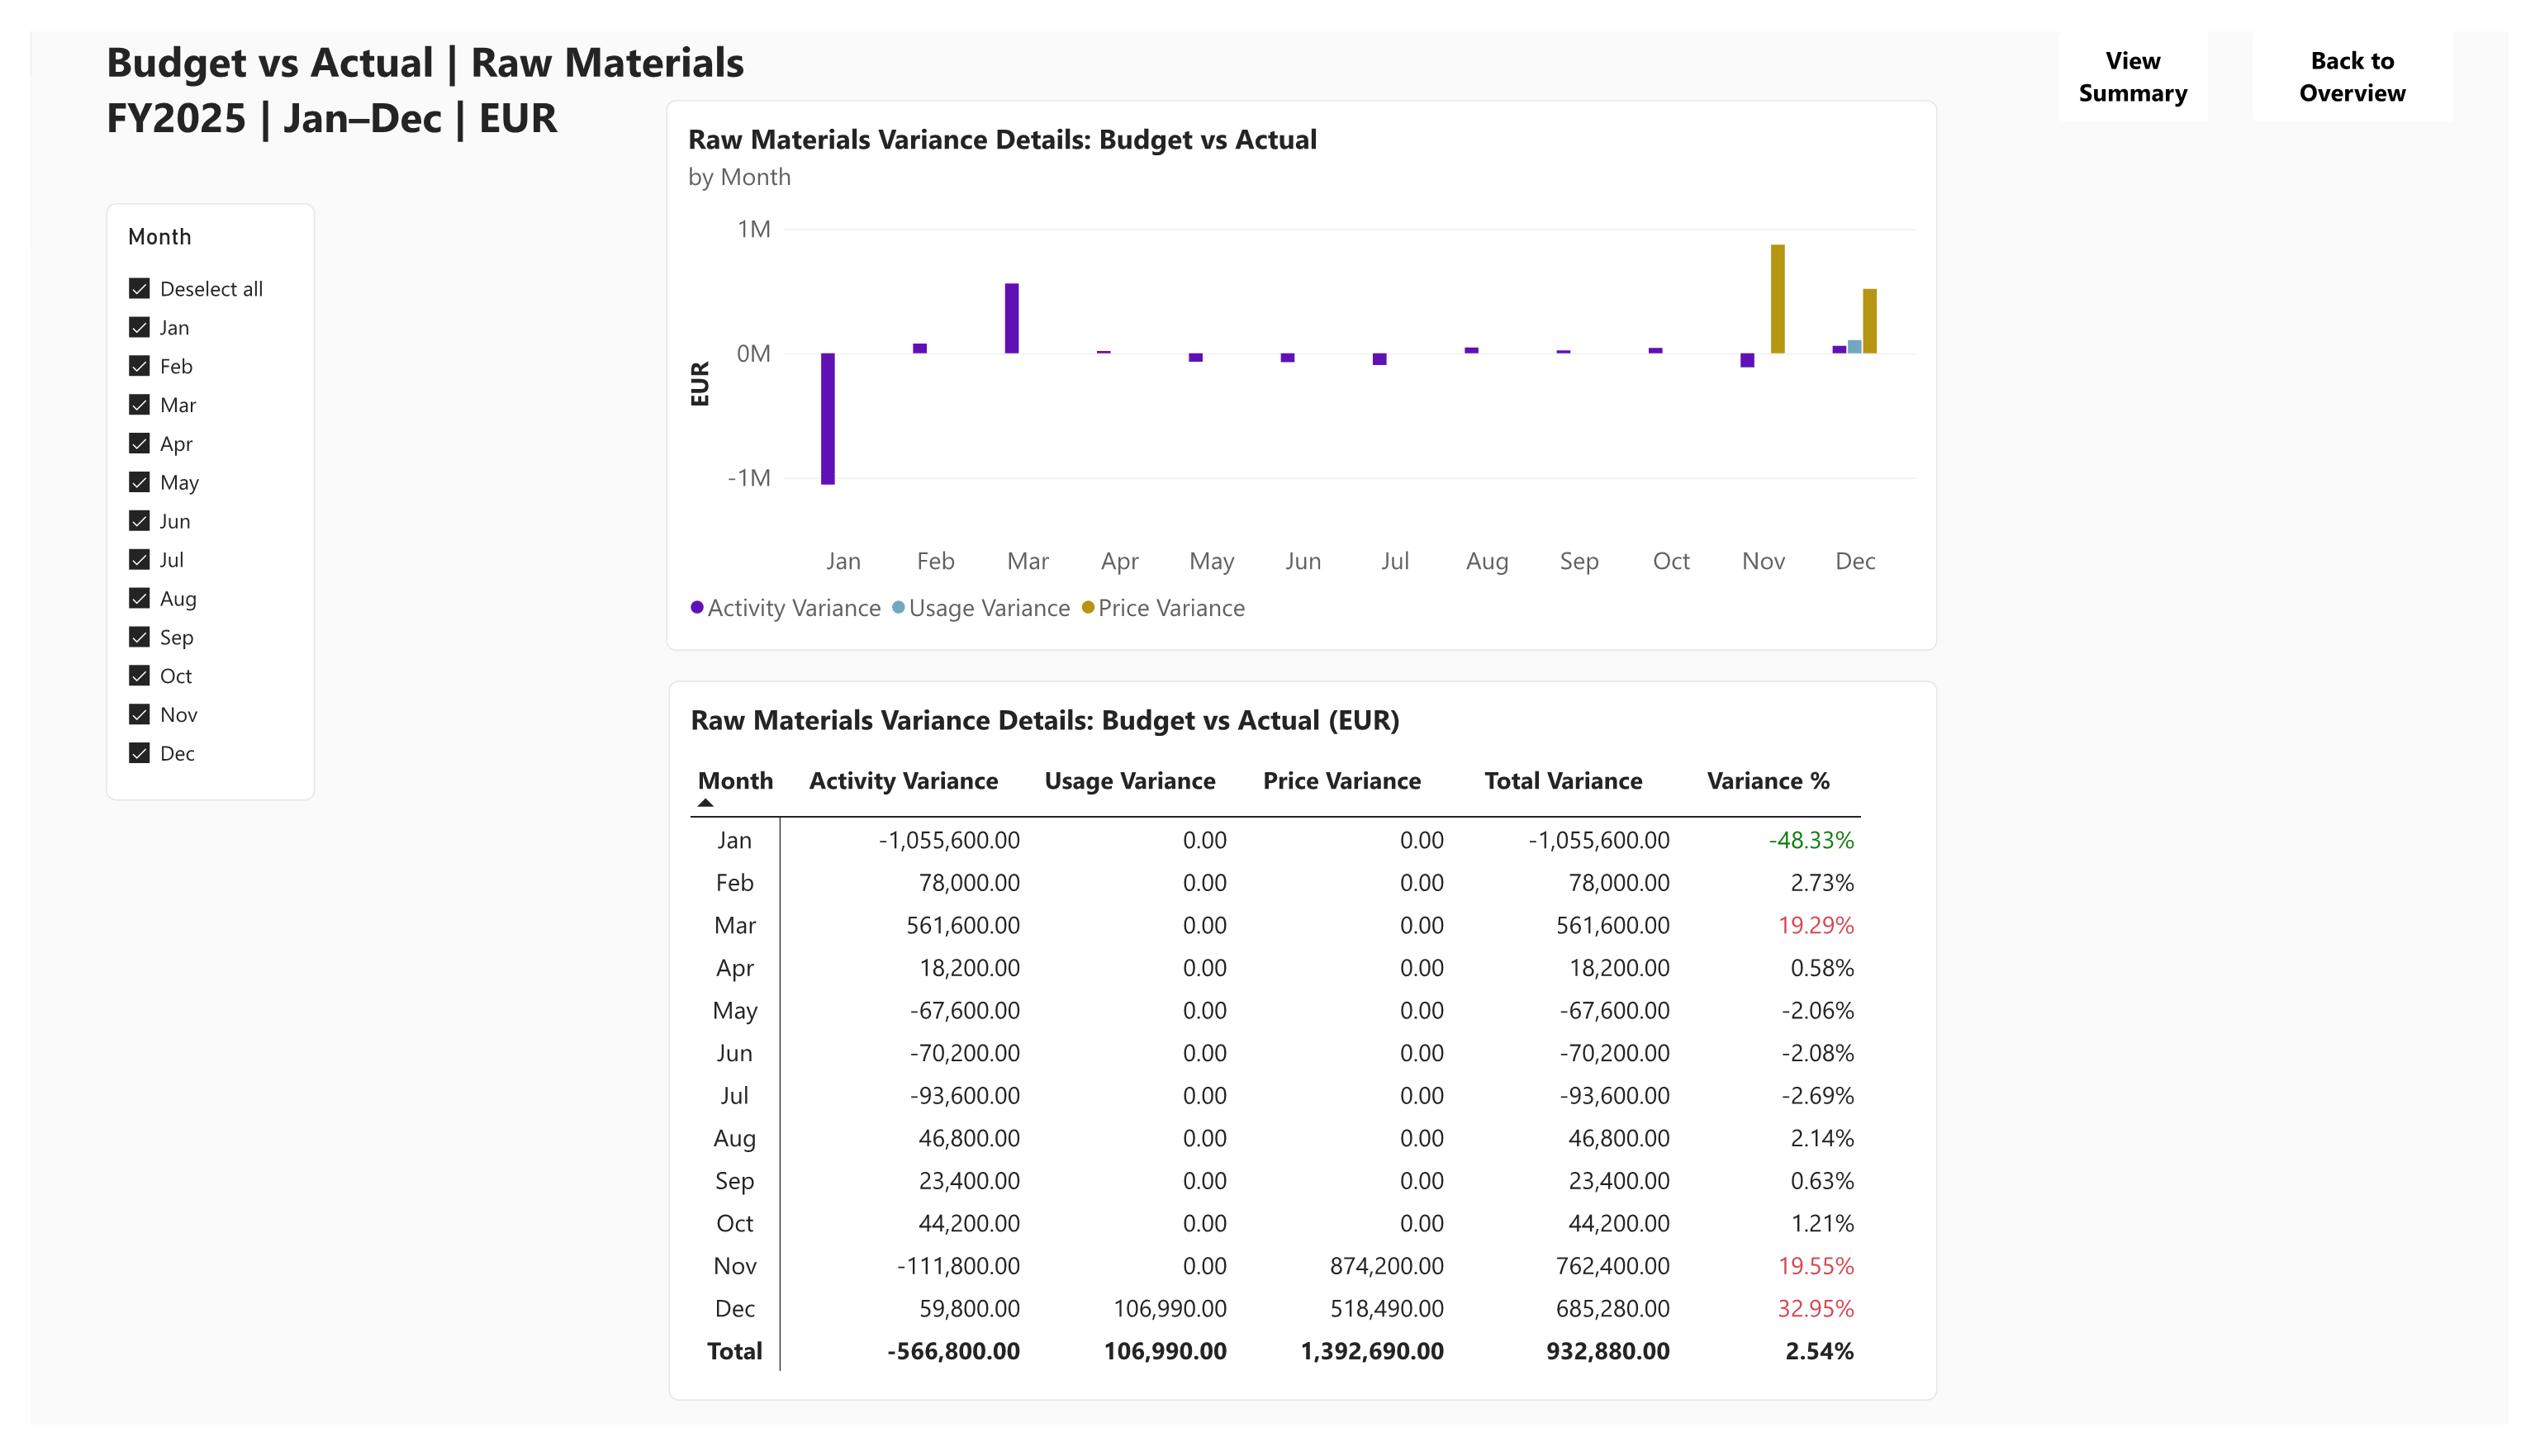

The page's visual inventory and layout, read from the dashboard file:
{"tool":"powerbi","page":{"name":"Raw Materials - Variance Details","canvas":[1920,1080],"ordinal":7},"visuals":[{"type":"listSlicer","fields":{"Values":["Dim_Date.MonthName"]},"box":[58,133,162.2,462.8],"z":0},{"type":"clusteredColumnChart","title":"Raw Materials Variance Details: Budget vs Actual","fields":{"Y":["_Measures.RM Volume Variance","_Measures.RM Usage Variance","_Measures.RM Price Variance"],"Category":["Dim_Date.Month"]},"box":[492.2,52.7,985.1,427.6],"z":1000},{"type":"pivotTable","title":"Raw Materials Variance Details: Budget vs Actual (EUR)","fields":{"Values":["_Measures.RM Volume Variance","_Measures.RM Usage Variance","_Measures.RM Price Variance","_Measures.RM Variance","_Measures.RM Variance %"],"Rows":["Dim_Date.Month"]},"box":[493.6,503,983.4,557.5],"z":2000},{"type":"actionButton","box":[1721,0,155.7,70],"z":3000},{"type":"actionButton","box":[1571.4,0,115.7,70],"z":4000},{"type":"textbox","box":[58.2,0,540.4,104.8],"z":5000}]}

Visuals, with their boxes on the page's 1920x1080 design canvas (x1, y1, x2, y2). These are canvas units, not pixel positions in the 2540x1456 screenshot, which may show the page scaled, cropped or inside an application window:
listSlicer - Dim_Date.MonthName: detection(58, 133, 220, 596)
"Raw Materials Variance Details: Budget vs Actual" clusteredColumnChart: detection(492, 53, 1477, 480)
"Raw Materials Variance Details: Budget vs Actual (EUR)" pivotTable: detection(494, 503, 1477, 1060)
actionButton: detection(1721, 0, 1877, 70)
actionButton: detection(1571, 0, 1687, 70)
textbox: detection(58, 0, 599, 105)
